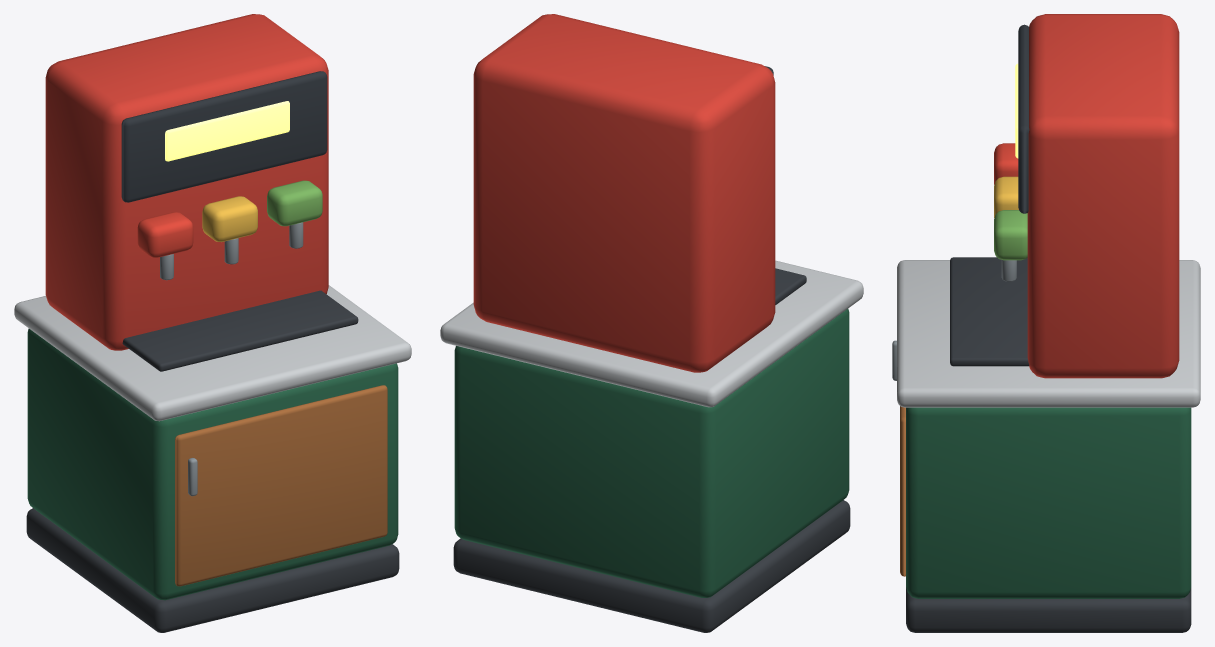
Rendered from st_drink.glb.
The picture shows the model from 3 angles, left to right: view 1: azimuth 30°, elevation 25°; view 2: azimuth 150°, elevation 25°; view 3: azimuth 270°, elevation 25°; orthographic projection. The views are drawn at different scales.
Visible parts, largest first — view 1: drink; view 2: drink; view 3: drink.
Boxes of the visible parts, <box> form: drink: <box>14,14,411,632</box>; drink: <box>440,14,863,632</box>; drink: <box>892,14,1200,632</box>.
Size of the model in its own units: 1.04 by 1.85 by 1.01.
Materials: 3 (3 with a texture image).
